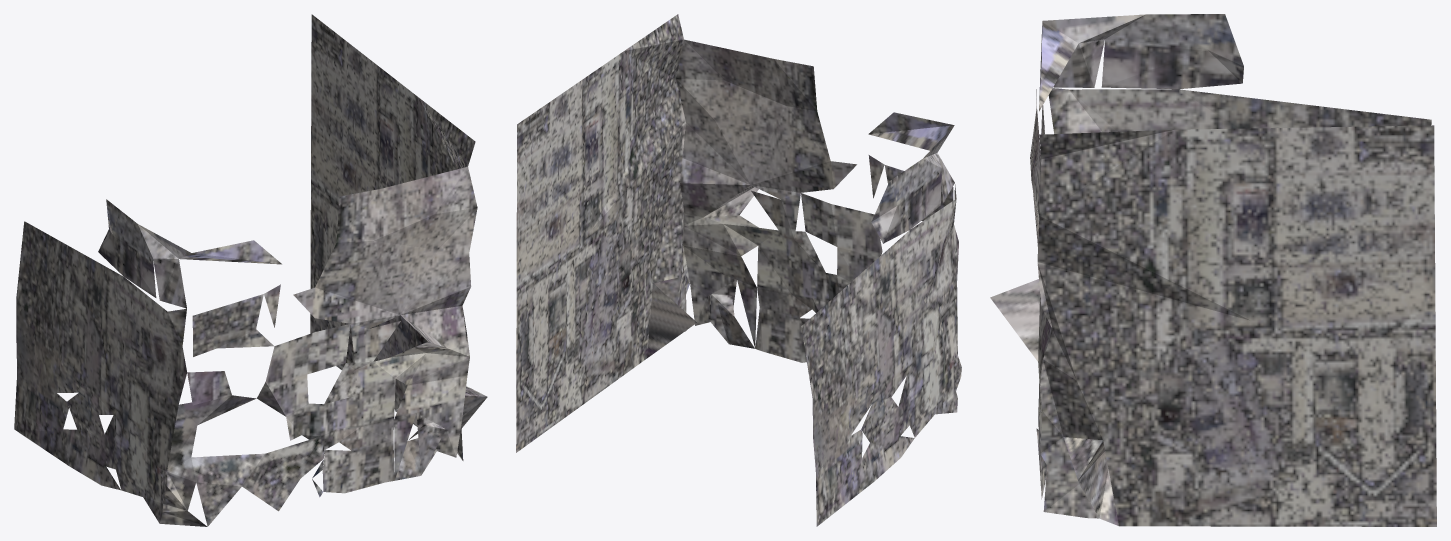
Rendered from bauhaus_lod1.obj.
The picture shows the model from 3 angles, left to right: view 1: azimuth 30°, elevation 25°; view 2: azimuth 150°, elevation 25°; view 3: azimuth 270°, elevation 25°; orthographic projection. The views are drawn at different scales.
Bounding box in the file's own units: 1.02 × 1 × 0.9925.
1 material, 1 textured.
